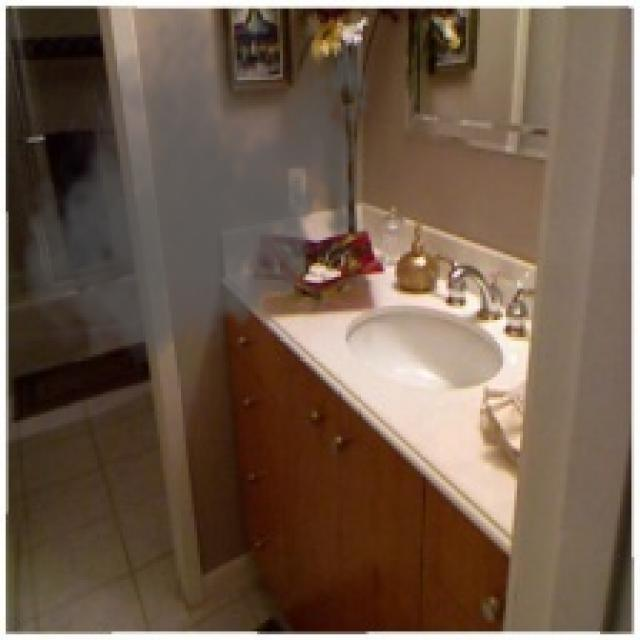Smoke: (14, 8, 383, 380)
